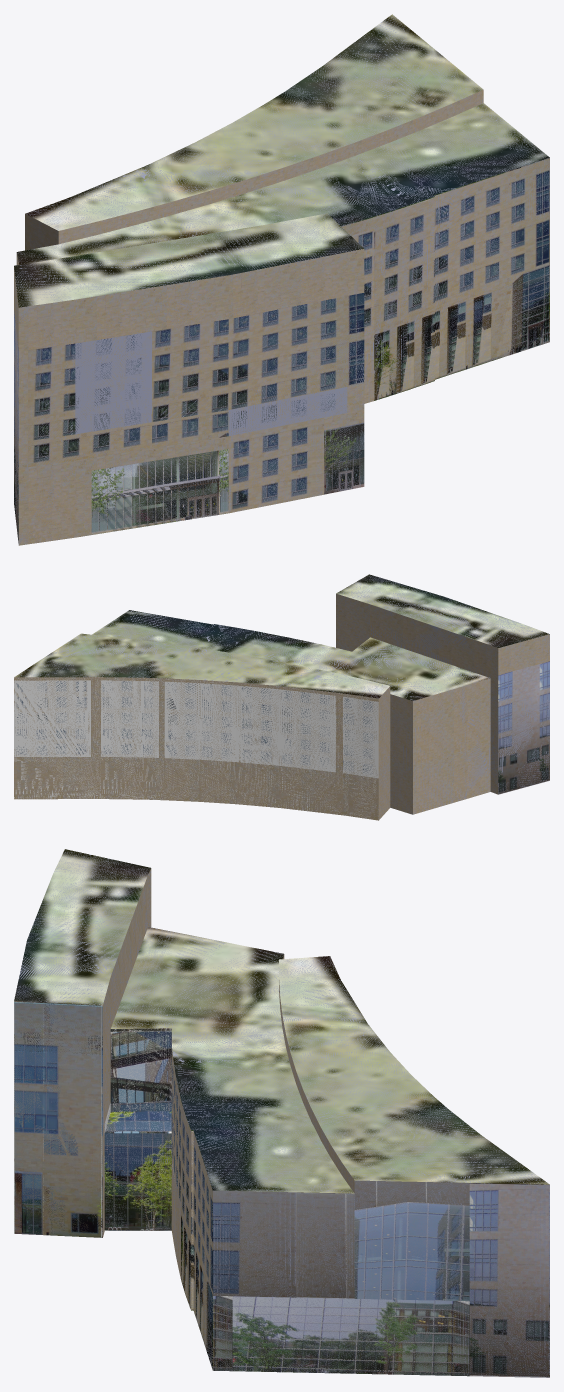
Rendered from WVF.dae.
3 views of the same model, one above another, from view 1: azimuth 30°, elevation 25°; view 2: azimuth 150°, elevation 25°; view 3: azimuth 270°, elevation 25° (orthographic). The views are drawn at different scales.
Visible parts, largest first — view 1: group_0 (×12); view 2: group_0 (×9); view 3: group_0 (×14).
Part boxes in pixels (box(x1,y1,x2,y2)): group_0 (×12): box(14, 14, 549, 545); group_0 (×9): box(14, 574, 549, 820); group_0 (×14): box(14, 849, 549, 1377).
Size of the model in its own units: 2920 by 2232 by 1068.
17 materials, 15 textured.
